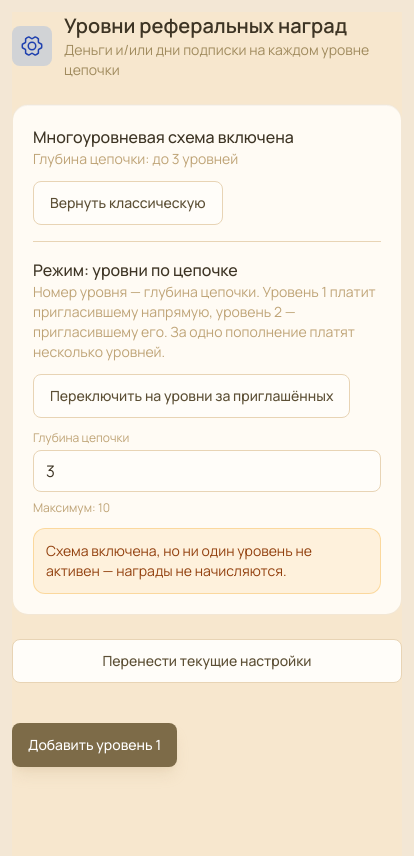
перенос легаси-настроек › предлагается только на пустой таблице уровней
Click the button "Перенести текущие настройки" at (207, 661), box [12,639,402,683]
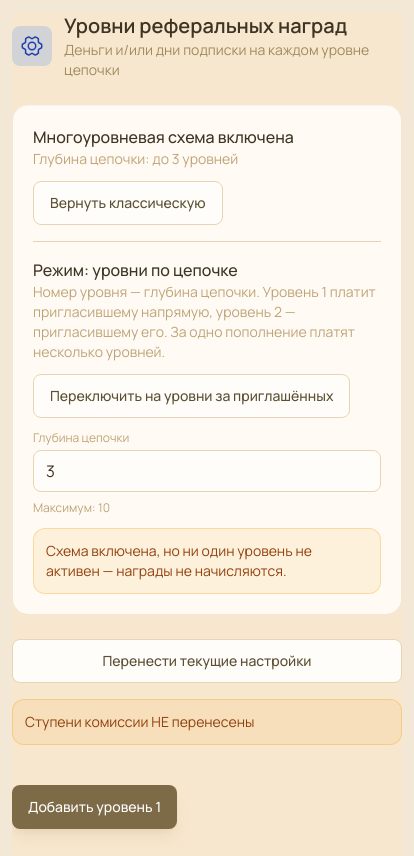
Result: the list item "Ступени комиссии НЕ перенесены" is shown at [25,712,254,731]
